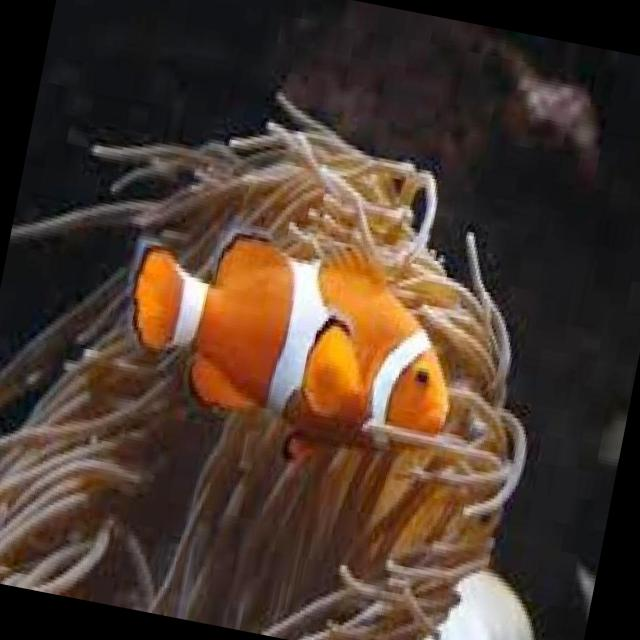ClownFish: (115, 210, 474, 454)
